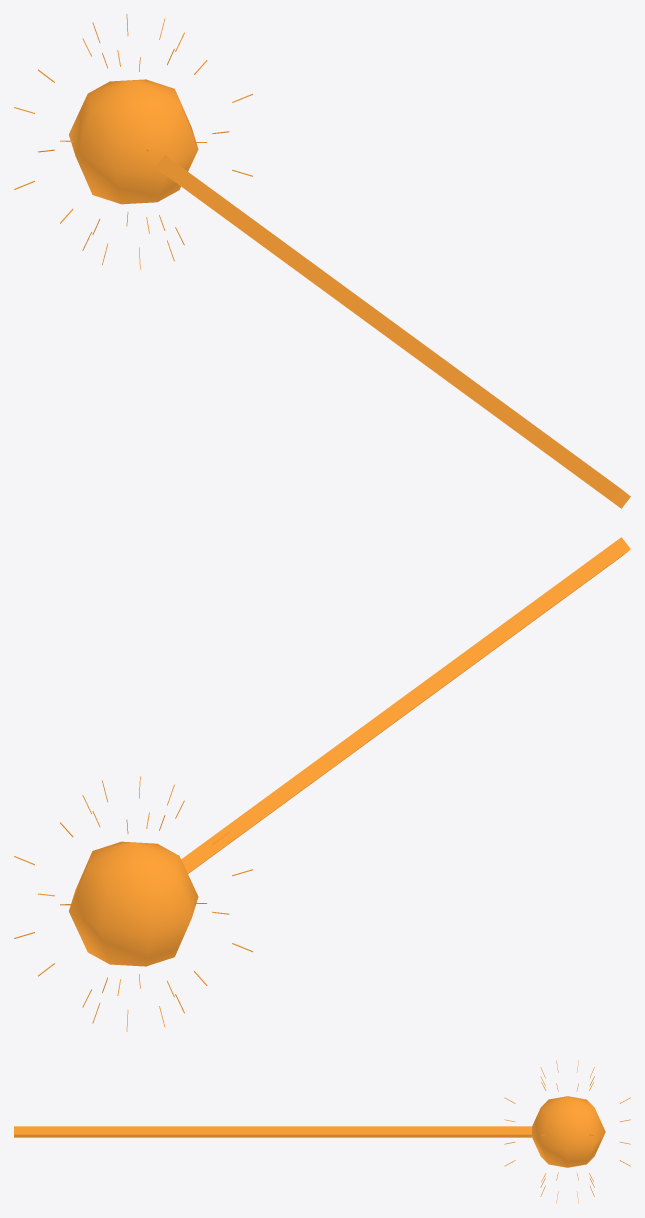
The model's file is light_directional.glb.
3 views of the same model, one above another, from view 1: azimuth 30°, elevation 25°; view 2: azimuth 150°, elevation 25°; view 3: azimuth 270°, elevation 25° (orthographic). The views are drawn at different scales.
Parts seen in each view (by area): view 1: Sphere, Cylinder, Sphere.001; view 2: Sphere, Cylinder, Sphere.001; view 3: Cylinder, Sphere, Sphere.001.
Boxes of the visible parts, box(x1,y1,x2,y2) form: Sphere: box(69, 79, 198, 204); Cylinder: box(156, 155, 630, 508); Sphere.001: box(14, 14, 252, 269); Sphere: box(69, 841, 198, 966); Cylinder: box(181, 537, 630, 873); Sphere.001: box(14, 776, 252, 1031); Cylinder: box(14, 1126, 531, 1137); Sphere: box(532, 1096, 605, 1167); Sphere.001: box(504, 1060, 630, 1203).
Bounding box in the file's own units: 3.32 × 3.5 × 16.18.
